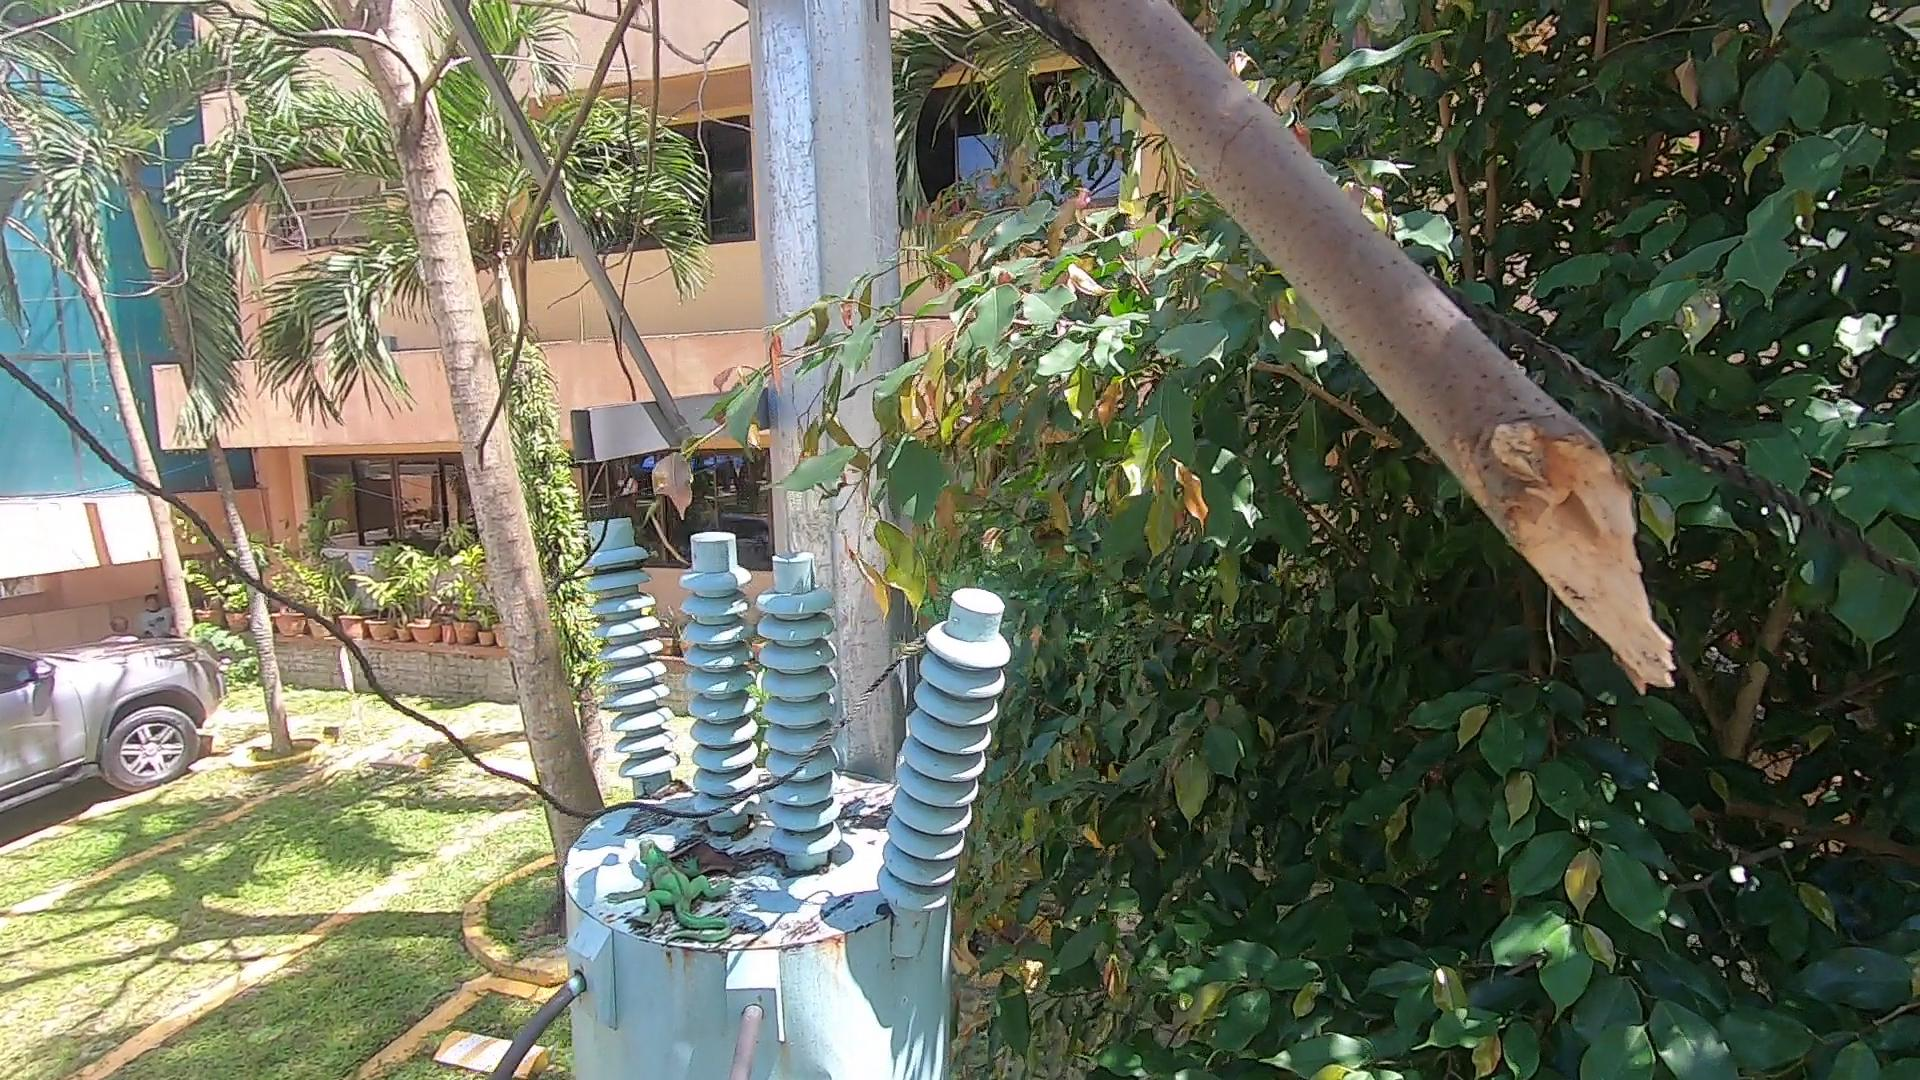branch with leaves: (633, 334, 1006, 649)
leaf: (659, 840, 770, 899), (839, 789, 895, 837), (624, 778, 694, 800)
tree branch: (1062, 1, 1712, 695)
